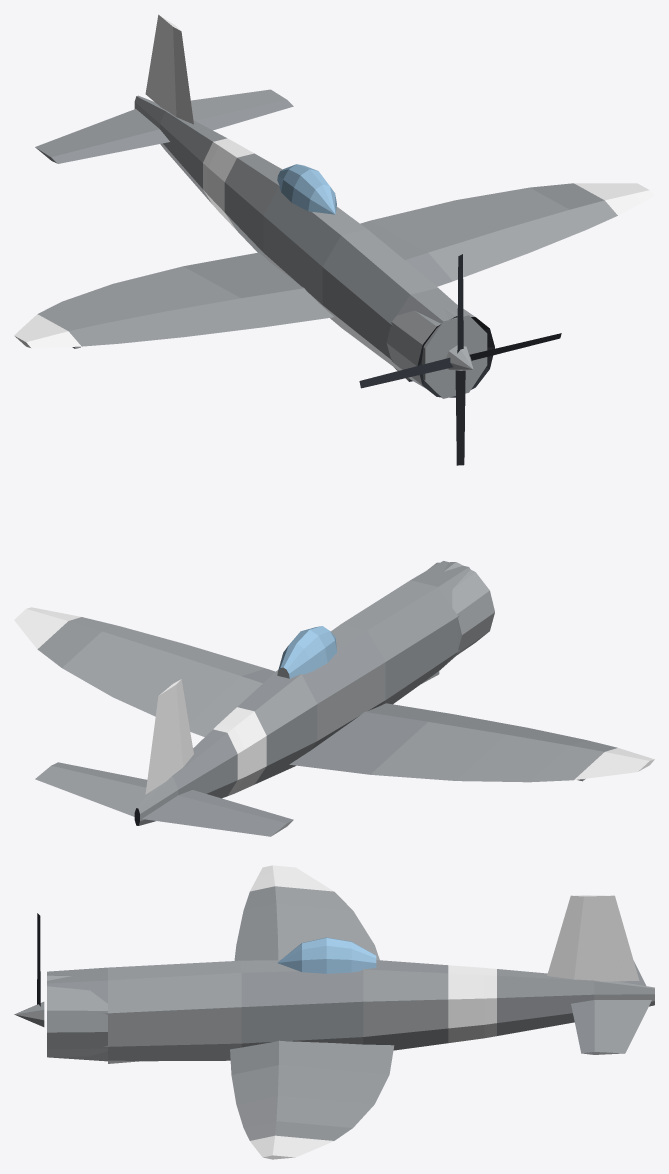
3 renders of one model, top to bottom at view 1: azimuth 30°, elevation 25°; view 2: azimuth 150°, elevation 25°; view 3: azimuth 270°, elevation 25°, orthographic. The views are drawn at different scales.
Parts seen in each view (by area): view 1: body, prop; view 2: body; view 3: body, prop.
Boxes of the visible parts, <box> form: body: <box>14,14,654,398</box>; prop: <box>359,254,561,465</box>; body: <box>14,561,654,836</box>; body: <box>47,865,654,1159</box>; prop: <box>14,913,44,1026</box>.
Bounding box in the file's own units: 12.42 × 4.37 × 11.6.
